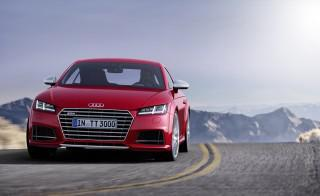Audi: (85, 100, 109, 111)
